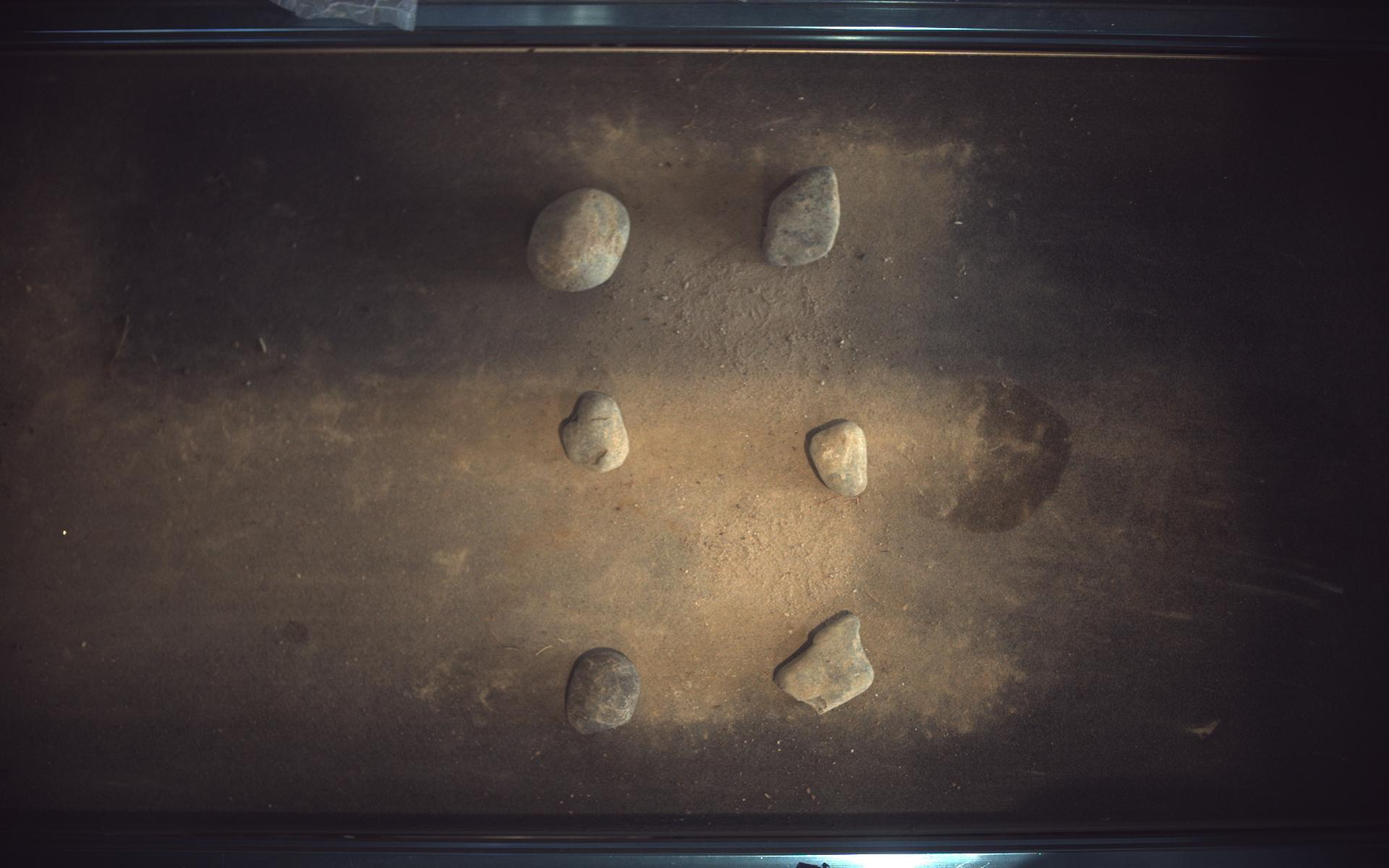stone: (527, 187, 631, 292), (775, 612, 876, 715), (765, 166, 841, 266), (567, 649, 641, 736), (560, 391, 630, 472), (810, 420, 869, 497)
